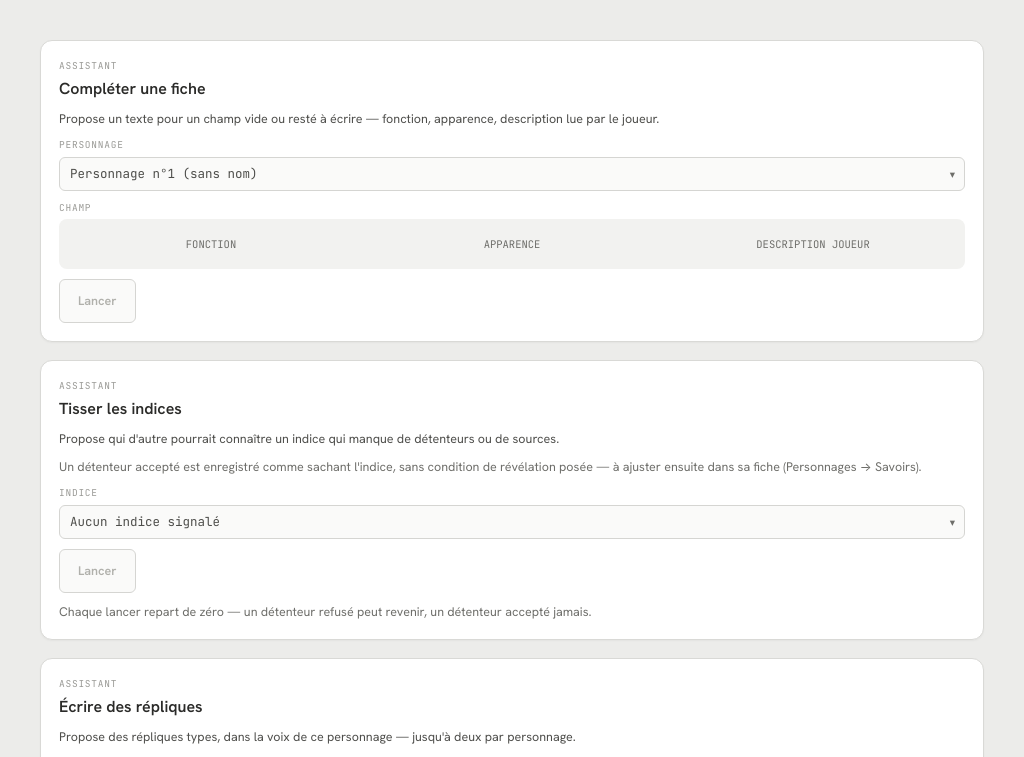
Scenario: PanneauCopilote - etats vides (carte 1) › un champ choisi et un personnage : Lancer actif, sans title
Click the radio button labelled "FONCTION".
click(211, 244)  # box [62,222,360,266]
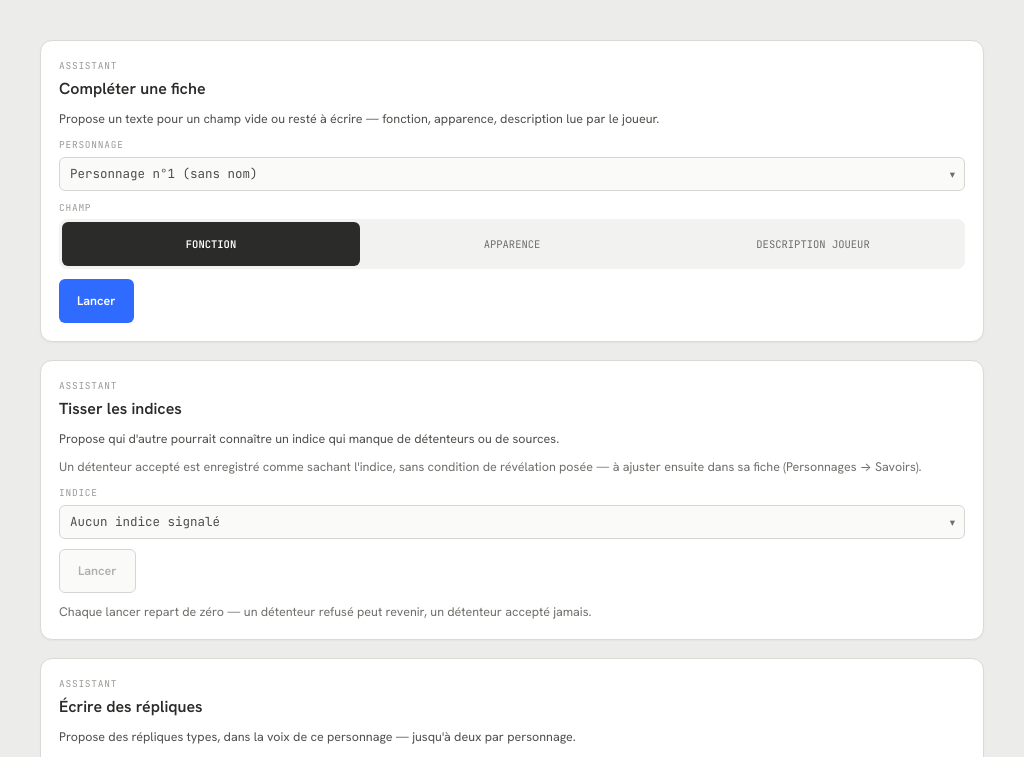
Check: the button "Lancer" below "Compléter une fiche" is enabled, box [59,279,134,323]
